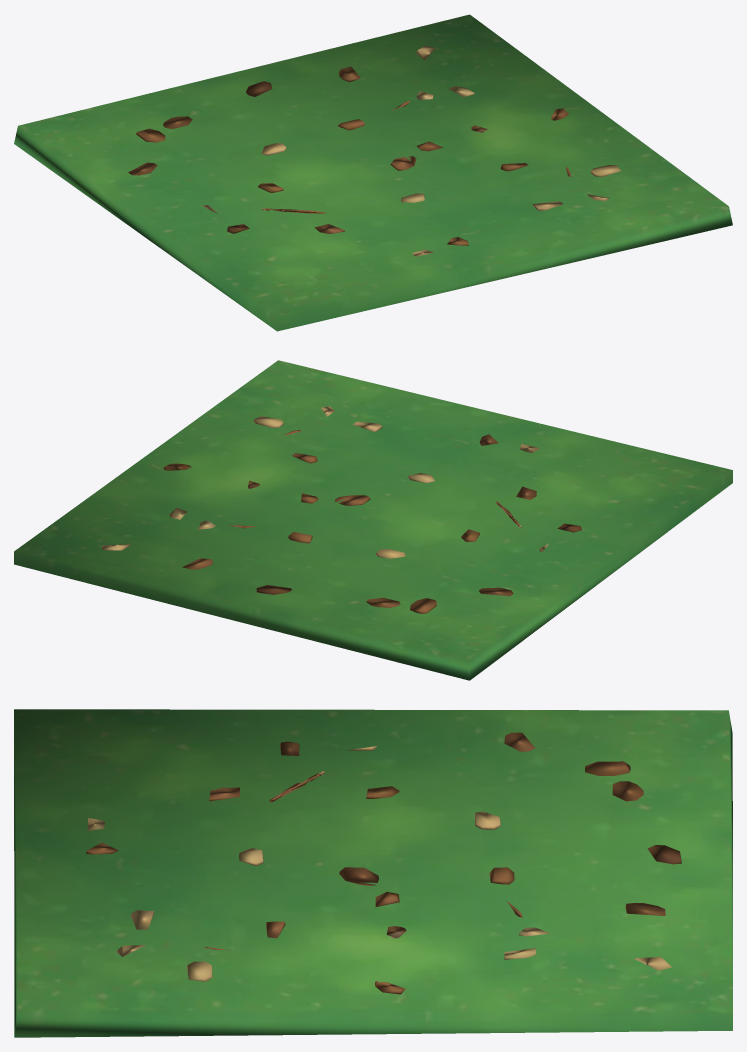
Rendered from forest-ground.glb.
The picture shows the model from 3 angles, top to bottom: view 1: azimuth 30°, elevation 25°; view 2: azimuth 150°, elevation 25°; view 3: azimuth 270°, elevation 25°; orthographic projection. The views are drawn at different scales.
Parts seen in each view (by area): view 1: ground; view 2: ground; view 3: ground.
Part boxes in pixels (x1,y1,x2,y2): ground: (14, 14, 732, 331); ground: (14, 360, 732, 680); ground: (14, 709, 732, 1037).
Bounding box in the file's own units: 2 × 0.0946 × 2.
Materials: 1 (1 with a texture image).
